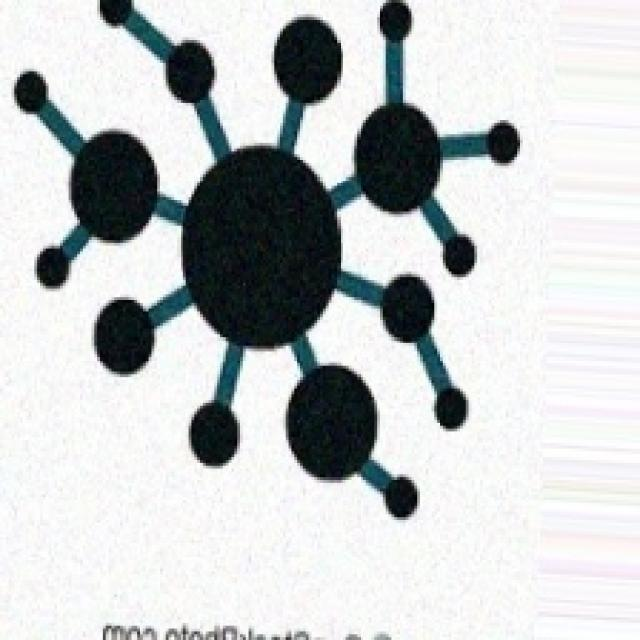Spherical_bacteria: (9, 0, 520, 520)
